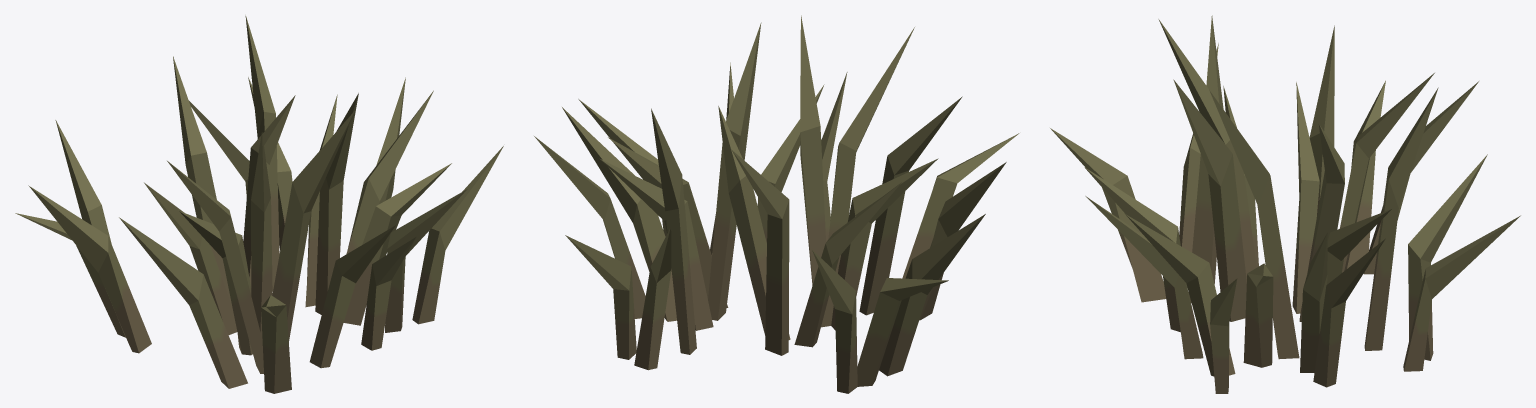
The model's file is SM_Env_Grass_04.fbx.
3 views of the same model, side by side, from view 1: azimuth 30°, elevation 25°; view 2: azimuth 150°, elevation 25°; view 3: azimuth 270°, elevation 25° (orthographic). The views are drawn at different scales.
Visible parts, largest first — view 1: SM_Env_Grass_04; view 2: SM_Env_Grass_04; view 3: SM_Env_Grass_04.
Part boxes in pixels (x1,y1,x2,y2): SM_Env_Grass_04: (15,15,503,393); SM_Env_Grass_04: (534,15,1019,393); SM_Env_Grass_04: (1050,15,1520,393).
Bounding box in the file's own units: 199 × 114 × 179.
